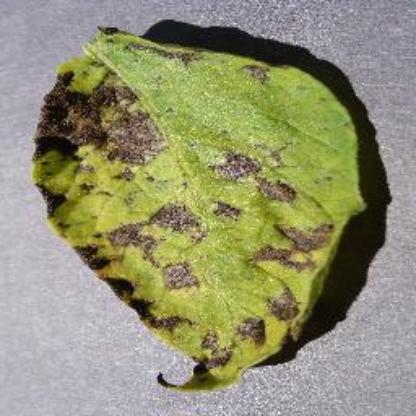Early-Blight: (29, 20, 374, 392)
